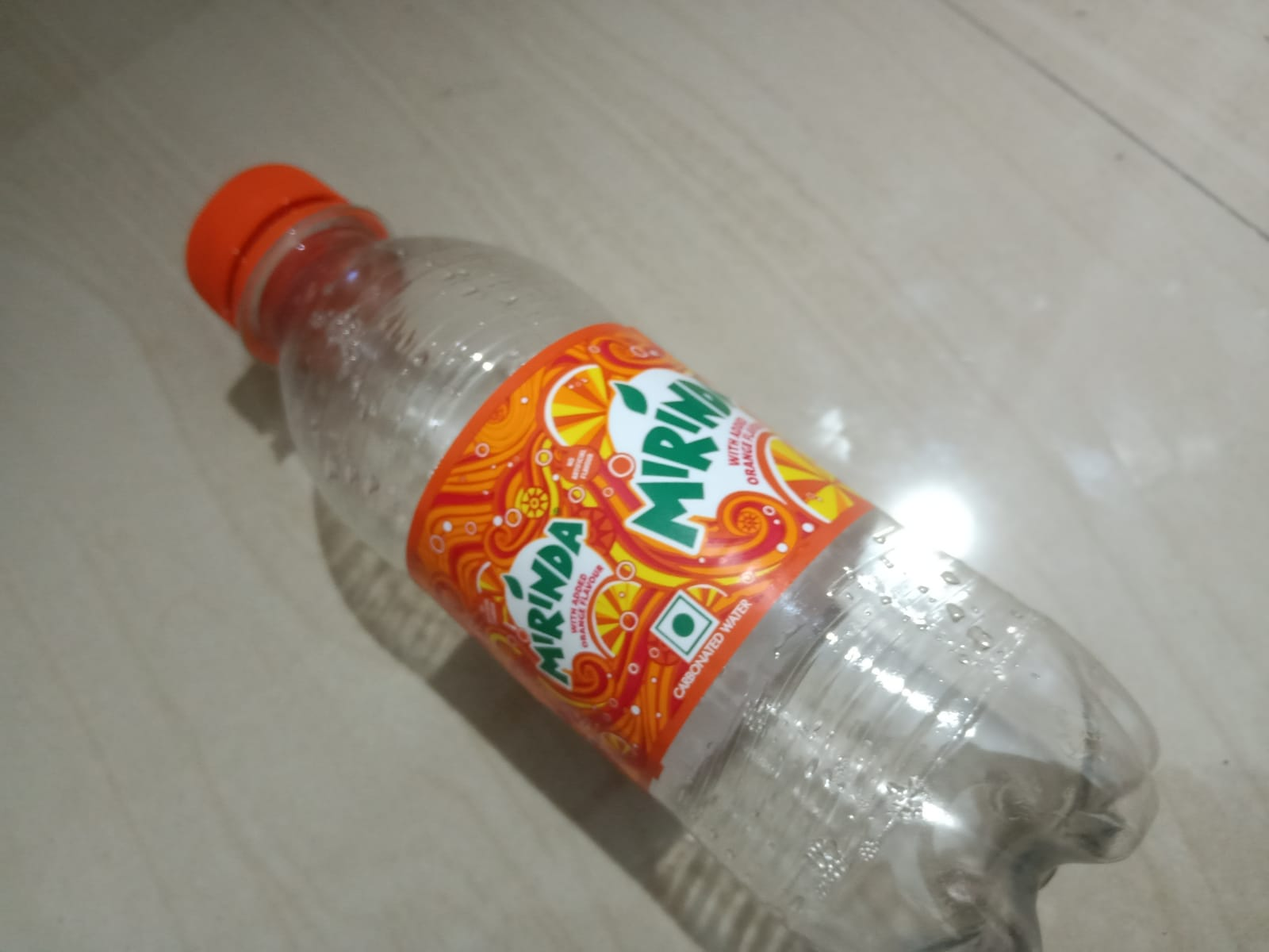plastic: (125, 155, 1225, 952)
